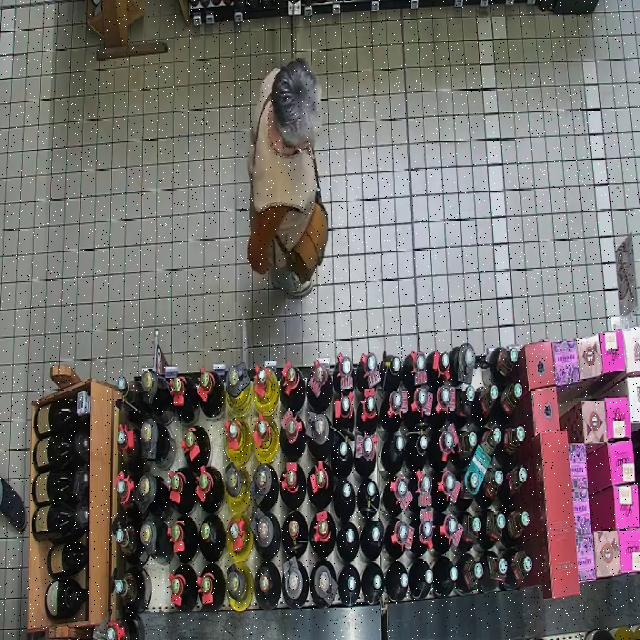bags: (276, 156, 329, 282)
person: (248, 59, 323, 296)
